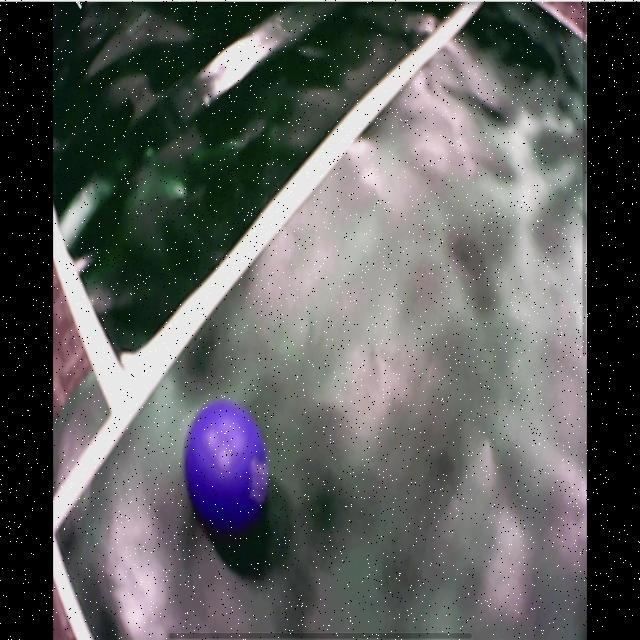ball: (184, 401, 269, 527)
